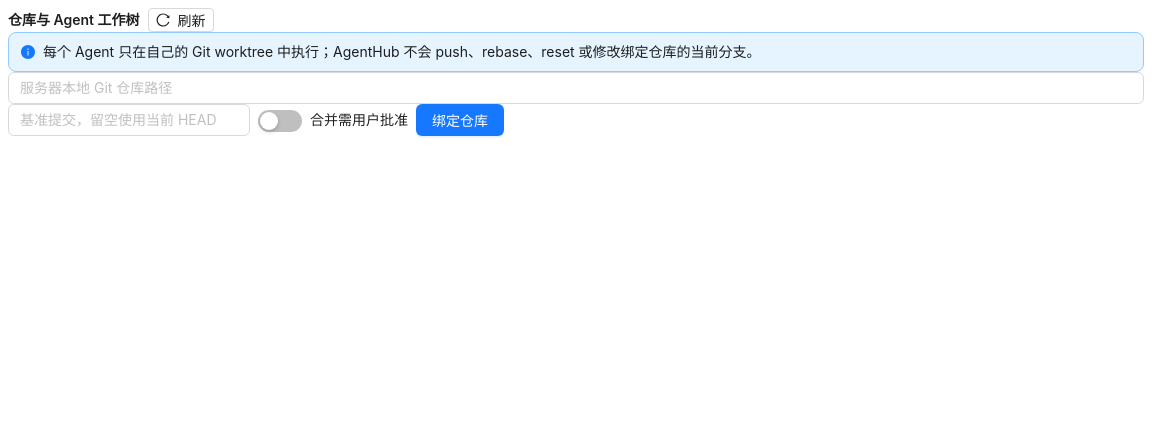
Scenario: RepositoryWorktreesSection › binds a server-visible repository without assuming browser filesystem access
Type "C:/project" into the field labelled "仓库路径".
click(576, 88); type("C:/project")  # box top-left (8, 72), bottom-right (1144, 104)
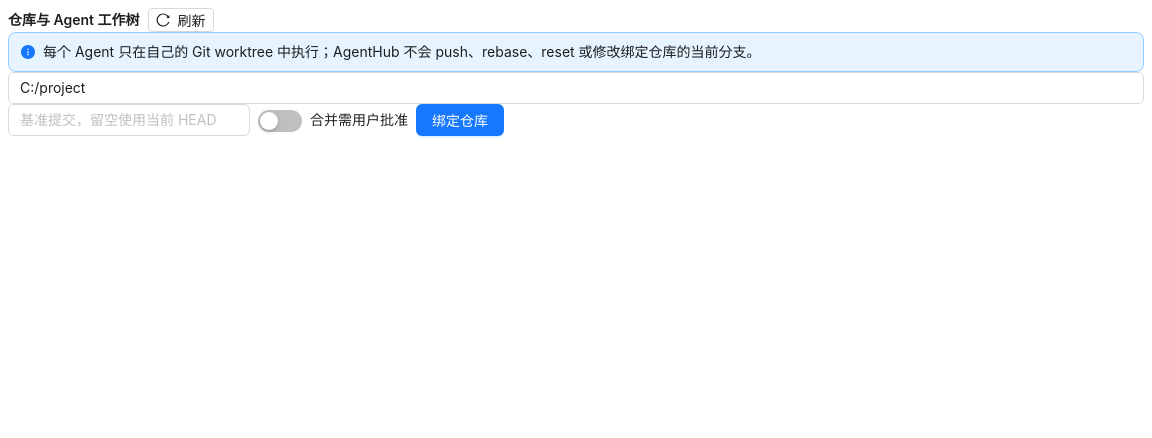
Click the switch named "合并需用户批准".
click(280, 121)  # box top-left (258, 110), bottom-right (302, 132)
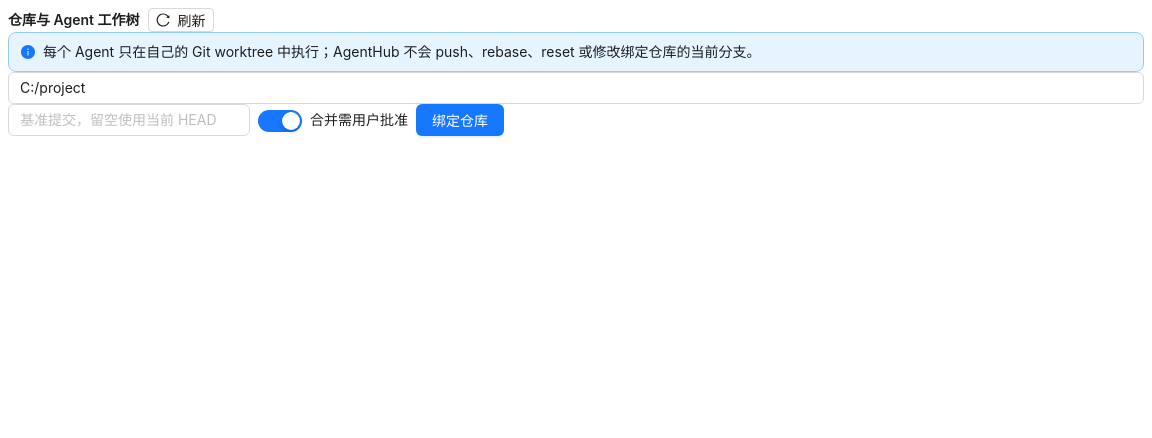
Click the button "绑定仓库".
click(460, 120)  # box top-left (416, 104), bottom-right (504, 136)
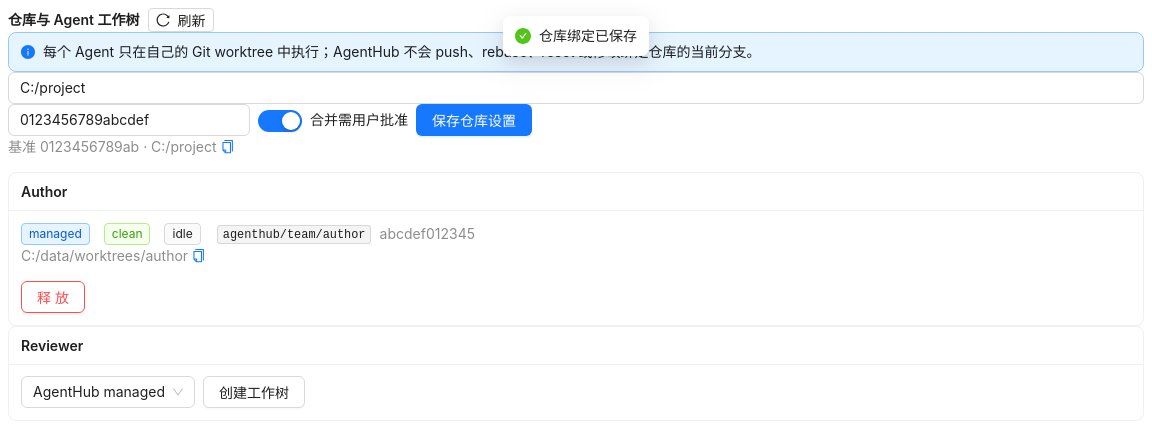
Now the text "agenthub/team/author" is shown, box top-left (217, 225), bottom-right (371, 244)
